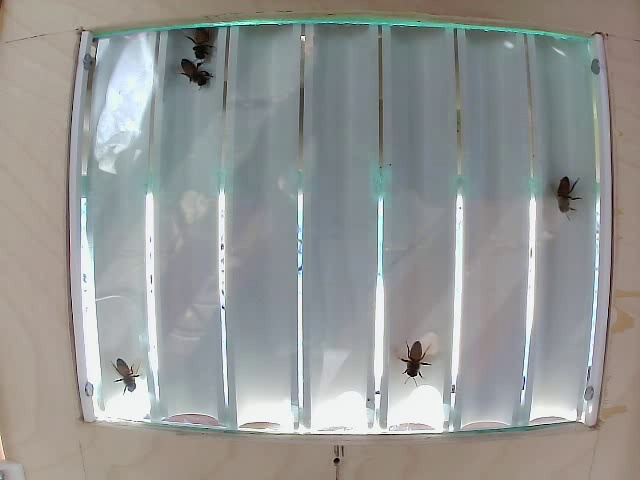bee: (406, 340, 437, 396), (552, 169, 582, 221), (111, 360, 148, 389), (178, 63, 208, 98), (184, 28, 223, 49)
